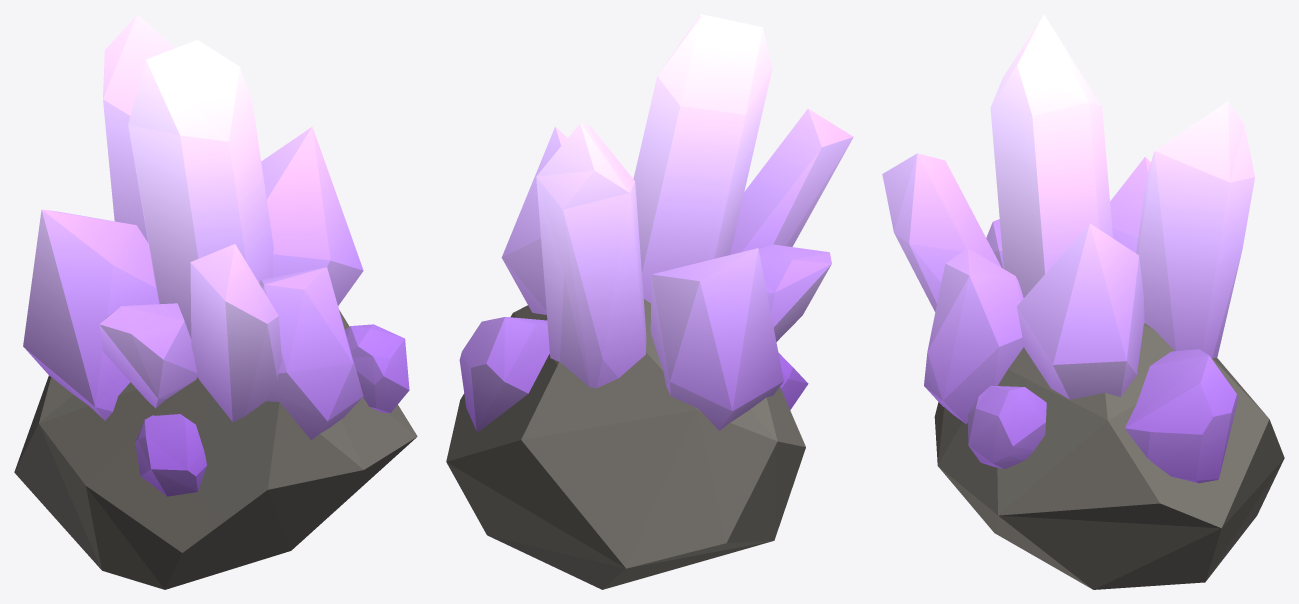
The model's file is forge_crystal.gltf.
The picture shows the model from 3 angles, left to right: view 1: azimuth 30°, elevation 25°; view 2: azimuth 150°, elevation 25°; view 3: azimuth 270°, elevation 25°; orthographic projection. The views are drawn at different scales.
Visible parts, largest first — view 1: forge_crystal; view 2: forge_crystal; view 3: forge_crystal.
Part boxes in pixels (box(x1,y1,x2,y2)): forge_crystal: box(14, 14, 417, 589); forge_crystal: box(446, 14, 853, 589); forge_crystal: box(882, 14, 1284, 589).
Bounding box in the file's own units: 0.7322 × 1.15 × 0.8759.
Materials: 1 (1 with a texture image).
